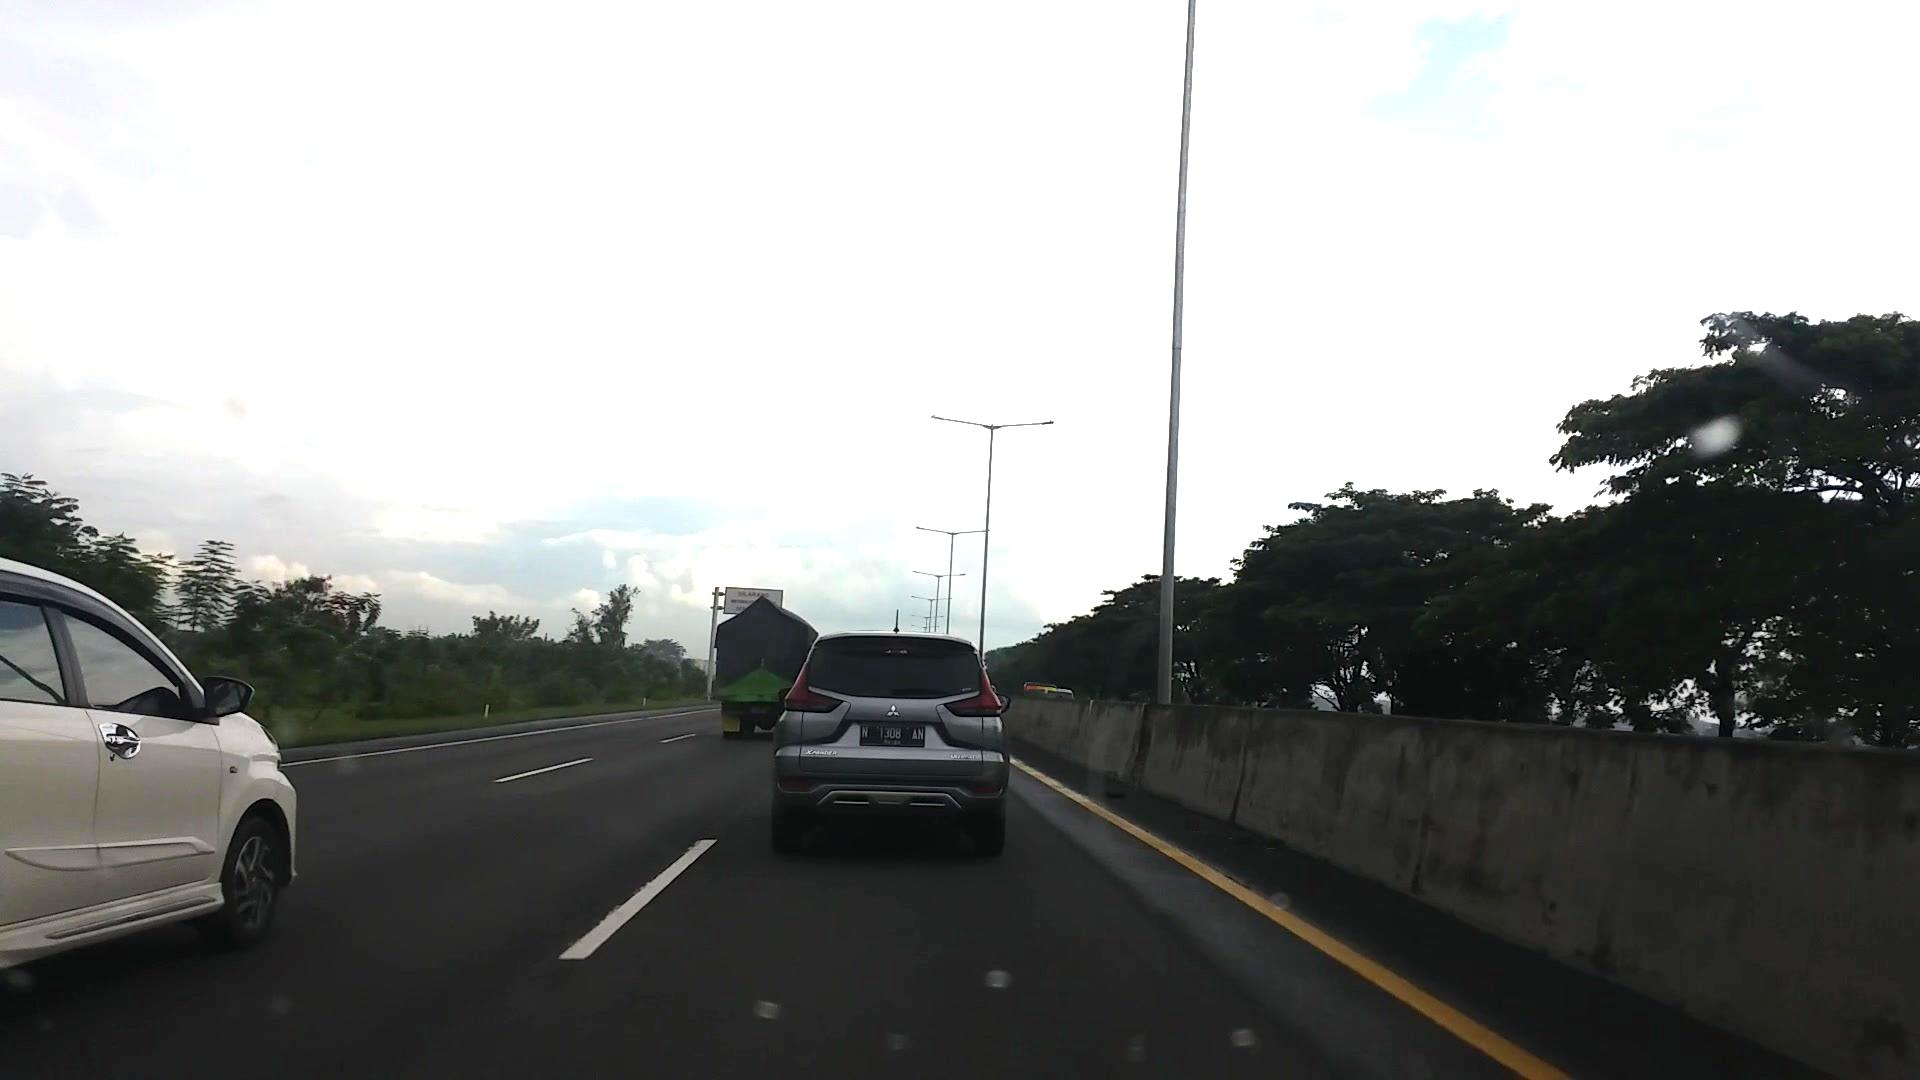plate_positive: (861, 723, 924, 746)
